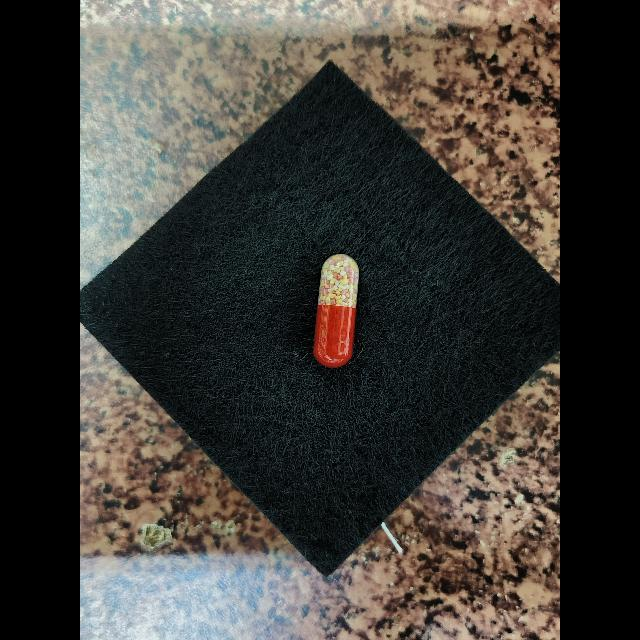Intact Capsule: (313, 254, 359, 367)
